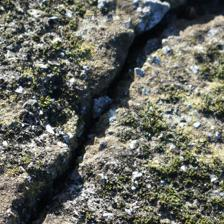Crack: (6, 5, 168, 216)
